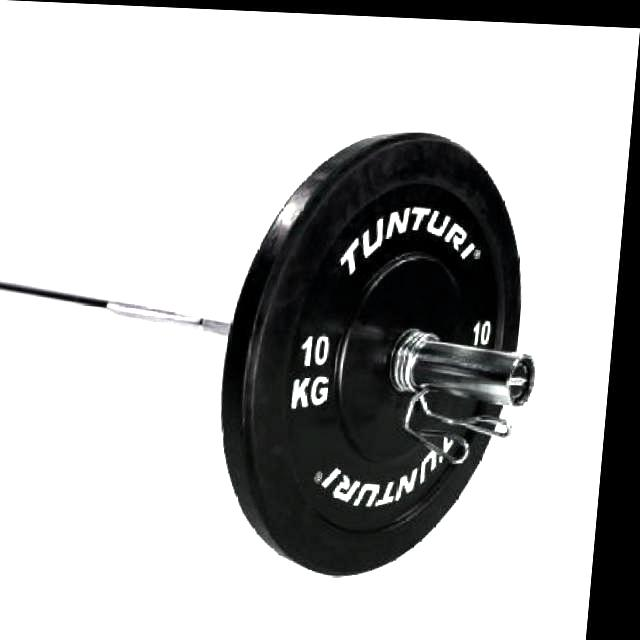barbell: (230, 115, 577, 590)
